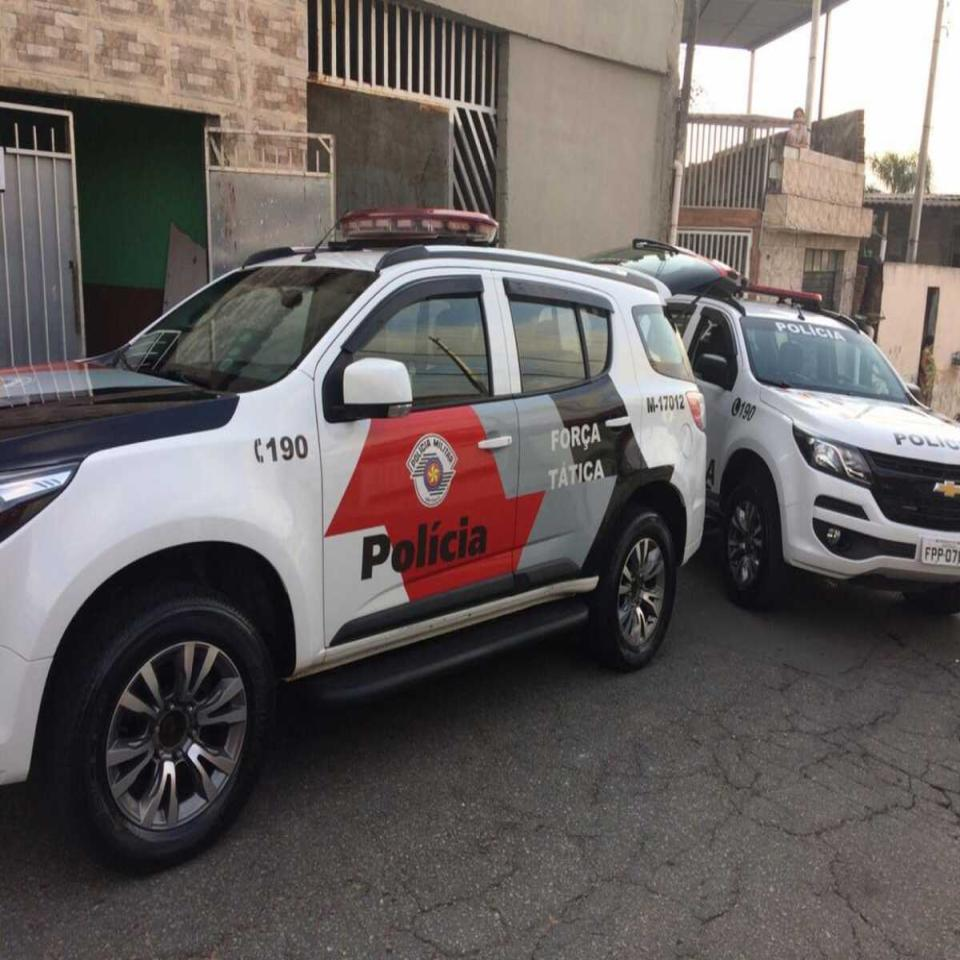viatura: (0, 198, 709, 863)
